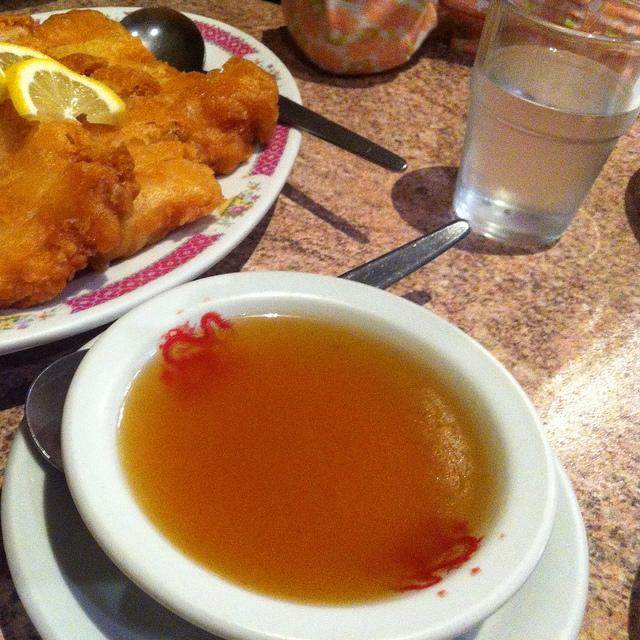lemon: (5, 58, 126, 127), (0, 42, 53, 106)
